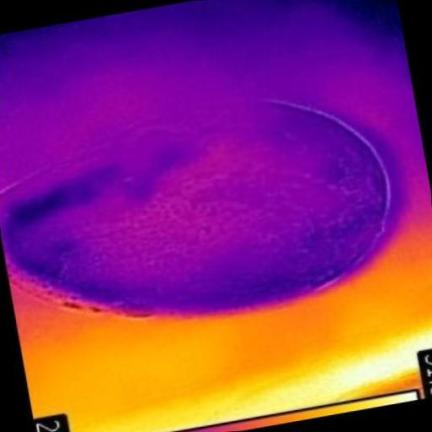mango: (0, 102, 389, 315)
